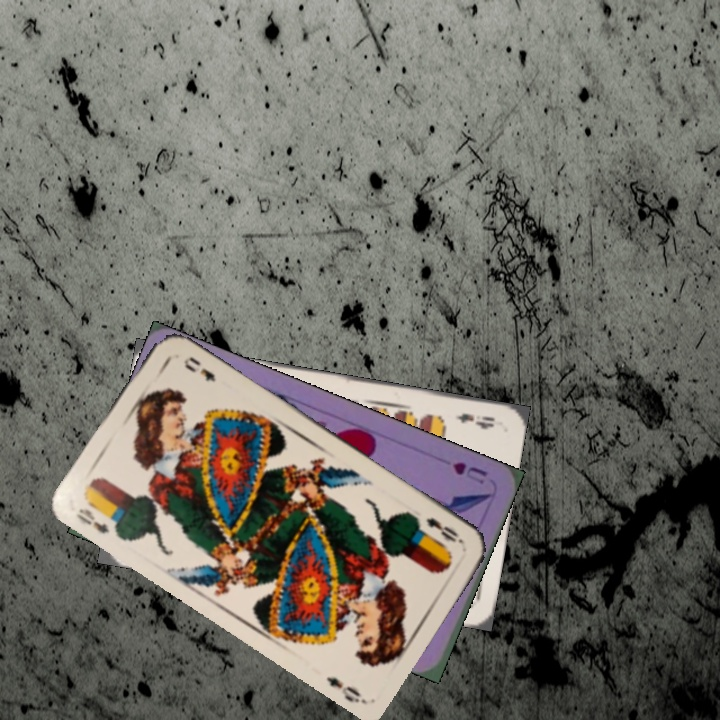E9: (452, 409, 498, 432)
EO: (421, 513, 467, 547), (72, 504, 112, 537)
HU: (448, 458, 490, 487)
